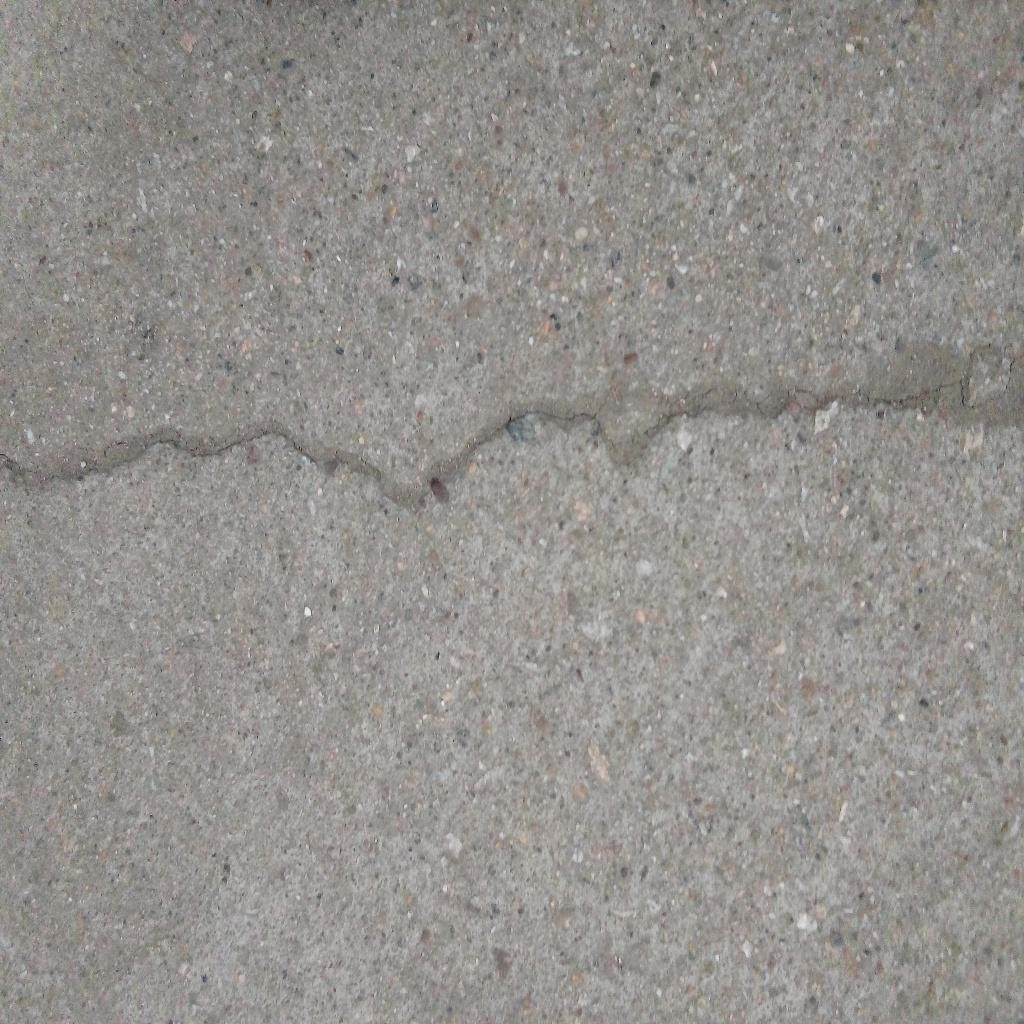Crack: (1, 342, 1024, 510)
